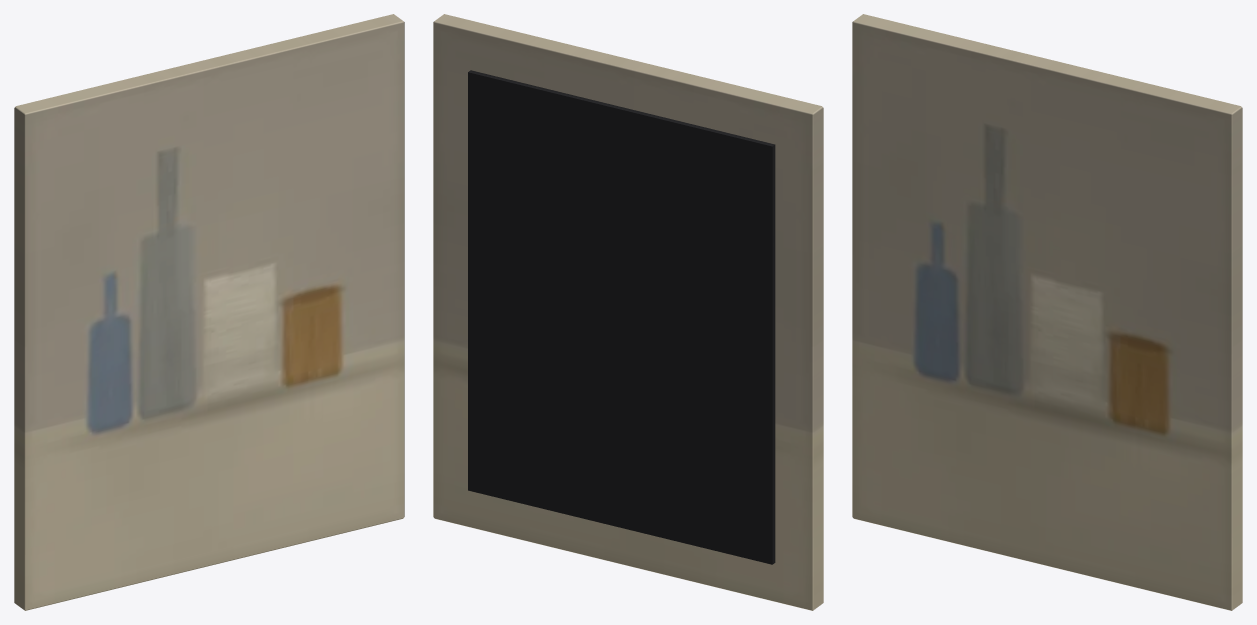
File: art_still_life.gltf
The picture shows the model from 3 angles, left to right: view 1: azimuth 30°, elevation 25°; view 2: azimuth 150°, elevation 25°; view 3: azimuth 330°, elevation 25°; orthographic projection.
Parts seen in each view (by area): view 1: Art_StillLife_Art; view 2: Art_StillLife_Spacer, Art_StillLife_Art; view 3: Art_StillLife_Art.
Boxes of the visible parts, <box> form: Art_StillLife_Art: <box>14,14,404,610</box>; Art_StillLife_Spacer: <box>468,70,775,564</box>; Art_StillLife_Art: <box>433,14,823,610</box>; Art_StillLife_Art: <box>852,14,1242,610</box>.
Size of the model in its own units: 0.8 by 1 by 0.05.
Materials: 2 (1 with a texture image).
